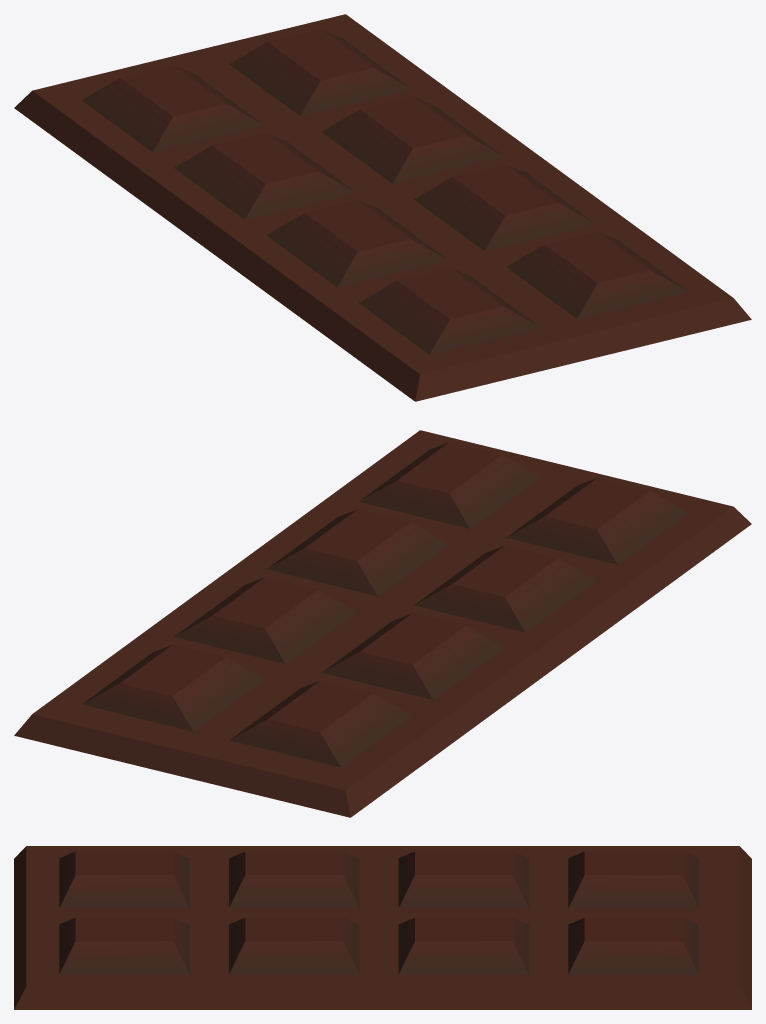
The model's file is simready-food_processed_chocolate_d01.glb.
3 renders of one model, top to bottom at view 1: azimuth 30°, elevation 25°; view 2: azimuth 150°, elevation 25°; view 3: azimuth 270°, elevation 25°, orthographic. The views are drawn at different scales.
Parts seen in each view (by area): view 1: slab, middle_portion, end_portion, inner_portion.003, end_portion.003, far_portion.003, middle_portion.003, far_portion, inner_portion; view 2: slab, inner_portion, far_portion, middle_portion.003, end_portion, far_portion.003, inner_portion.003, end_portion.003, middle_portion; view 3: slab, end_portion, far_portion, middle_portion, inner_portion, middle_portion.003, end_portion.003, far_portion.003, inner_portion.003.
Boxes of the visible parts, left/top/right/bottom form: slab: left=14, top=14, right=751, bottom=401; middle_portion: left=174, top=132, right=355, bottom=219; end_portion: left=359, top=267, right=540, bottom=354; inner_portion.003: left=414, top=164, right=595, bottom=250; end_portion.003: left=506, top=231, right=688, bottom=318; far_portion.003: left=229, top=29, right=411, bottom=115; middle_portion.003: left=322, top=96, right=503, bottom=183; far_portion: left=82, top=65, right=263, bottom=151; inner_portion: left=266, top=200, right=447, bottom=287; slab: left=14, top=430, right=751, bottom=817; inner_portion: left=414, top=545, right=595, bottom=632; far_portion: left=229, top=680, right=411, bottom=767; middle_portion.003: left=174, top=577, right=355, bottom=663; end_portion: left=506, top=477, right=688, bottom=564; far_portion.003: left=82, top=644, right=263, bottom=731; inner_portion.003: left=266, top=509, right=448, bottom=596; end_portion.003: left=359, top=441, right=540, bottom=528; middle_portion: left=322, top=613, right=503, bottom=699; slab: left=14, top=846, right=751, bottom=1009; end_portion: left=59, top=851, right=189, bottom=908; far_portion: left=568, top=851, right=698, bottom=908; middle_portion: left=398, top=851, right=528, bottom=908; inner_portion: left=229, top=851, right=359, bottom=908; middle_portion.003: left=398, top=917, right=528, bottom=974; end_portion.003: left=59, top=917, right=189, bottom=974; far_portion.003: left=568, top=917, right=698, bottom=974; inner_portion.003: left=229, top=917, right=359, bottom=974.
Size of the model in its own units: 0.0639 by 0.0075 by 0.1319.
